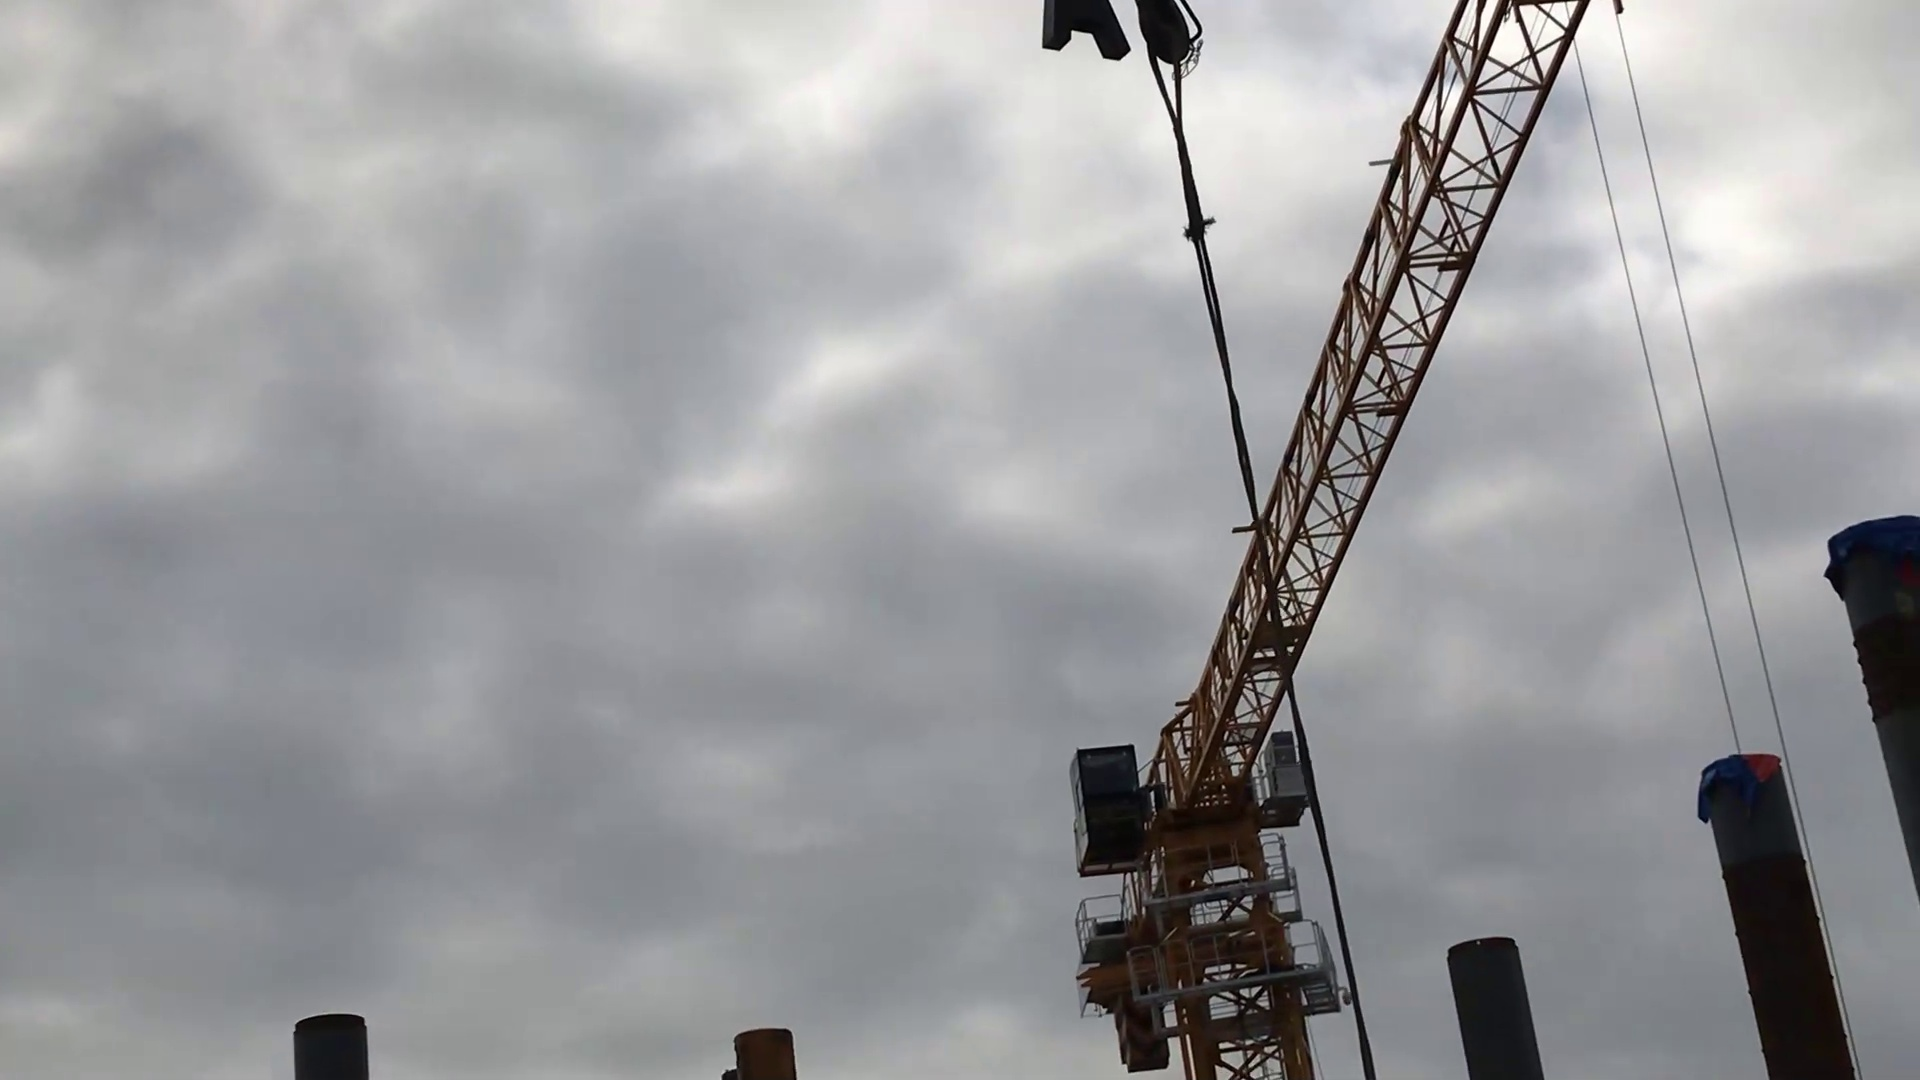hook: (1030, 1, 1222, 79)
